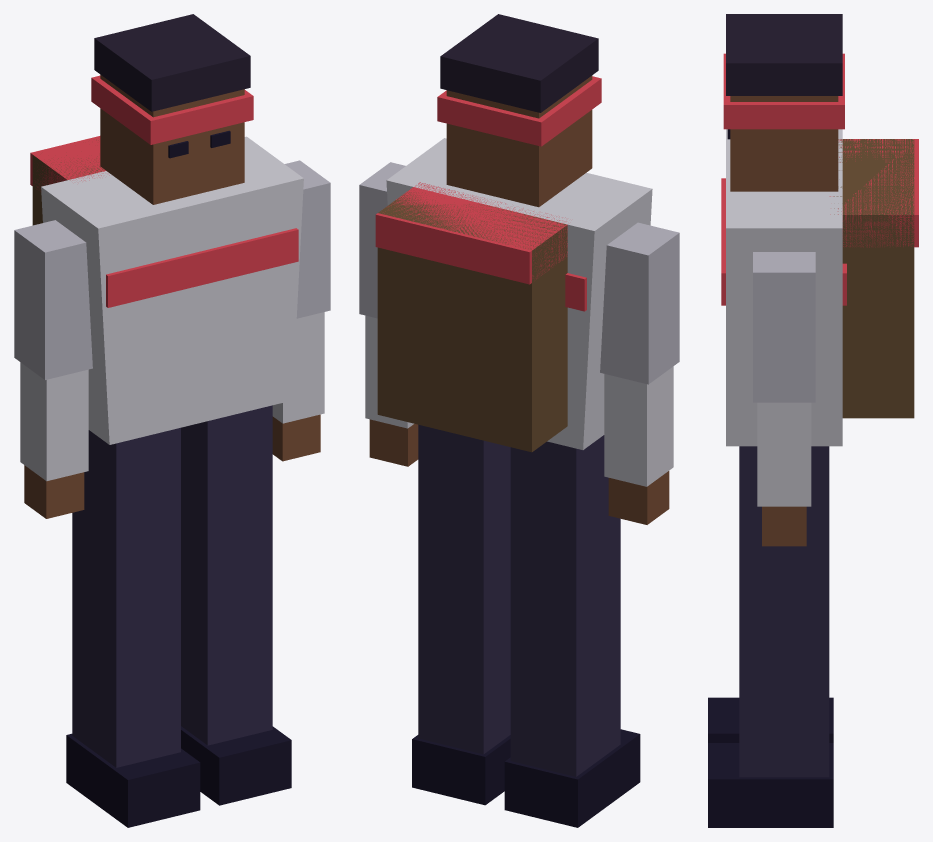
The model's file is survivor_meera.glb.
The picture shows the model from 3 angles, left to right: view 1: azimuth 30°, elevation 25°; view 2: azimuth 150°, elevation 25°; view 3: azimuth 270°, elevation 25°; orthographic projection. The views are drawn at different scales.
Visible parts, largest first — view 1: torso, leg_R, leg_L, head, arm_R, arm_L; view 2: torso, leg_R, leg_L, head, arm_R, arm_L; view 3: torso, leg_L, head, arm_L, leg_R.
Part boxes in pixels (x1,y1,x2,y2): torso: (30, 136, 303, 444); leg_R: (66, 427, 200, 827); leg_L: (181, 405, 291, 805); head: (91, 14, 253, 204); arm_R: (14, 220, 92, 518); arm_L: (272, 160, 330, 461); torso: (375, 138, 652, 452); leg_R: (504, 435, 640, 827); leg_L: (412, 424, 510, 805); head: (437, 14, 601, 207); arm_R: (600, 222, 679, 524); arm_L: (359, 162, 418, 466); torso: (721, 129, 918, 446); leg_L: (708, 446, 833, 827); head: (723, 14, 844, 191); arm_L: (753, 252, 815, 546); leg_R: (708, 697, 833, 742).
Size of the model in its own units: 0.75 by 1.84 by 0.47.
